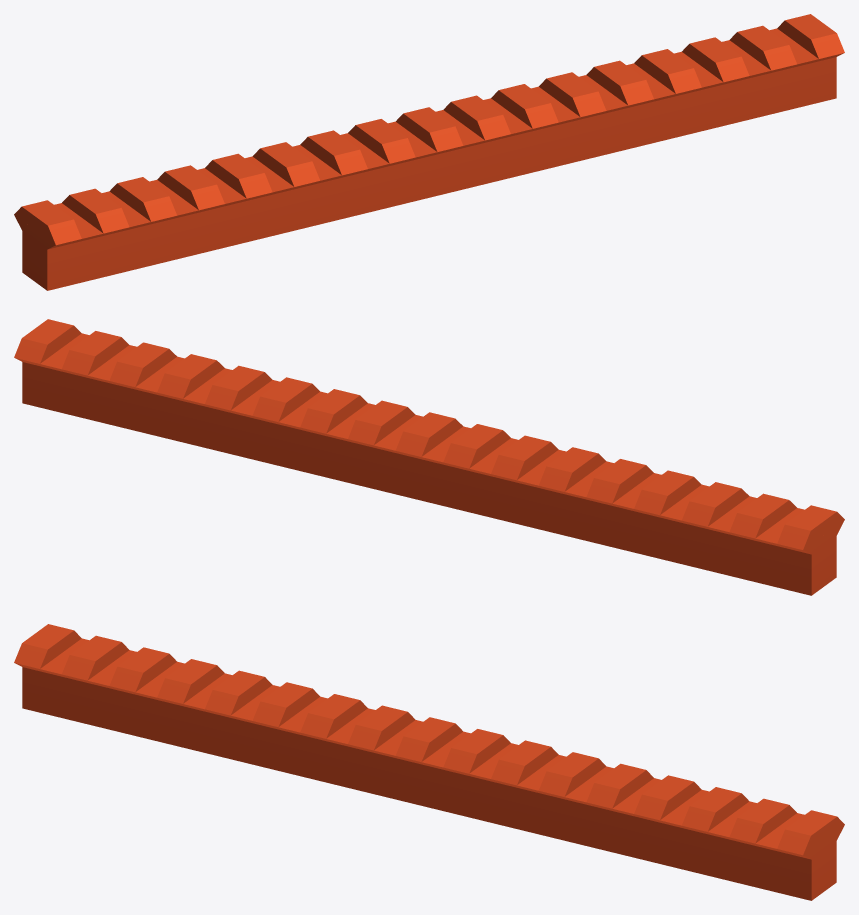
The model's file is Bar_01.fbx.
3 renders of one model, top to bottom at view 1: azimuth 30°, elevation 25°; view 2: azimuth 150°, elevation 25°; view 3: azimuth 330°, elevation 25°, orthographic.
Parts seen in each view (by area): view 1: Bar_01; view 2: Bar_01; view 3: Bar_01.
Part boxes in pixels (left/top/right/bottom): Bar_01: left=14, top=14, right=844, bottom=290; Bar_01: left=14, top=319, right=844, bottom=595; Bar_01: left=14, top=624, right=844, bottom=900.
Size of the model in its own units: 28.26 by 2.24 by 2.6.
